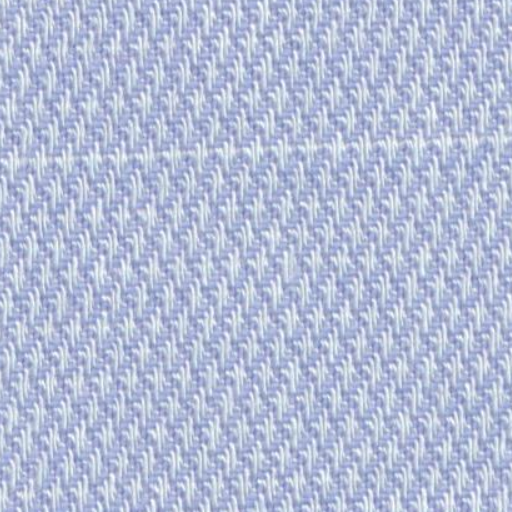TuoSha: (17, 111, 501, 195)
